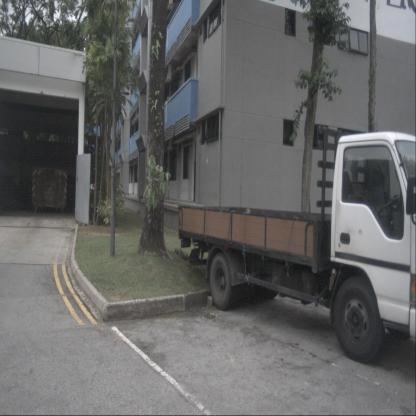vehicle-truck: (178, 131, 416, 364)
